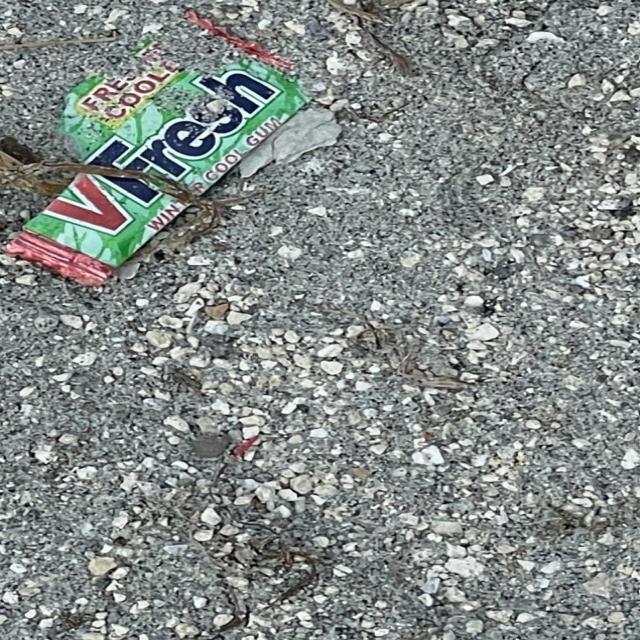plastic_waste: (1, 9, 315, 283)
